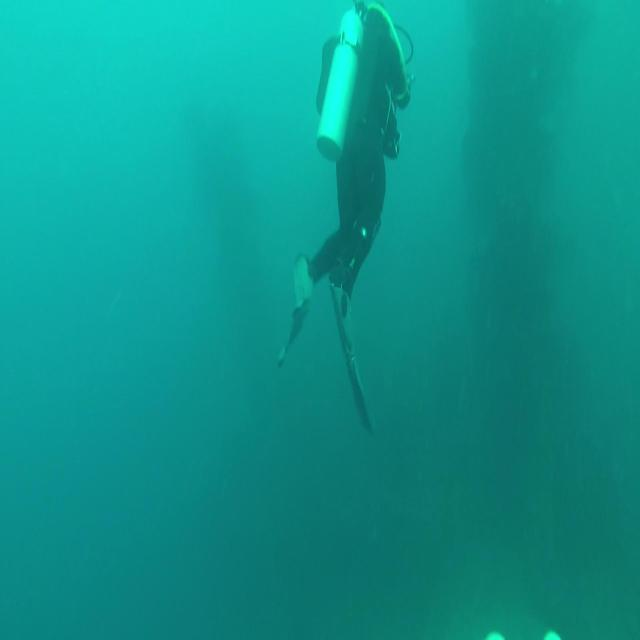human: (276, 0, 414, 371)
